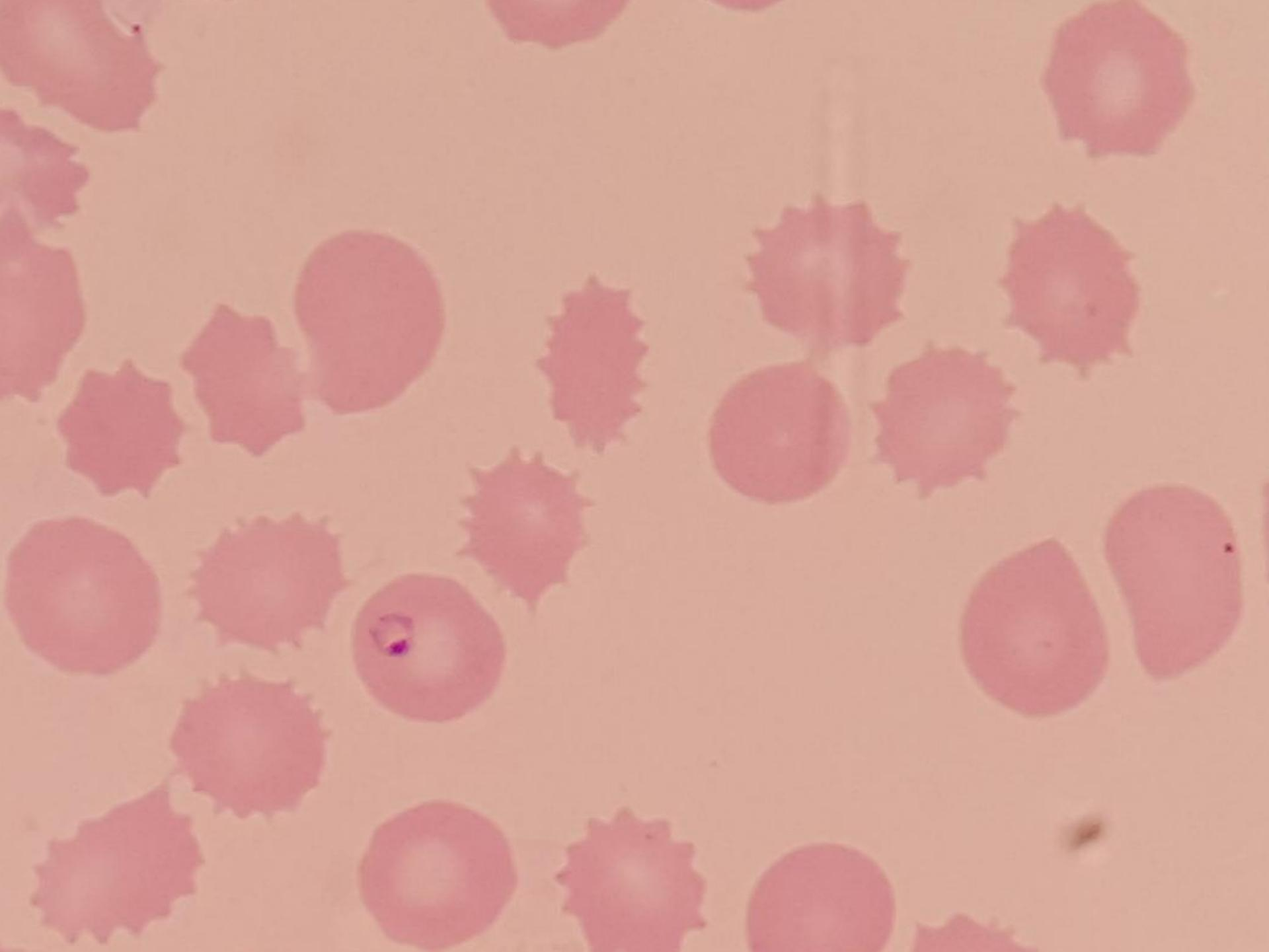Infected: (352, 573, 512, 723)
Uninfected: (288, 237, 446, 418), (960, 535, 1108, 718), (1110, 478, 1238, 680), (5, 519, 166, 676), (43, 795, 203, 952), (1043, 2, 1193, 159), (747, 197, 903, 345), (1003, 208, 1140, 376), (355, 805, 519, 945), (175, 674, 329, 816), (0, 0, 157, 134), (187, 512, 344, 644), (554, 811, 703, 948), (874, 347, 1013, 492), (464, 453, 592, 610), (538, 275, 652, 446), (709, 364, 851, 499), (56, 365, 182, 497), (185, 304, 294, 452), (747, 839, 893, 948)
